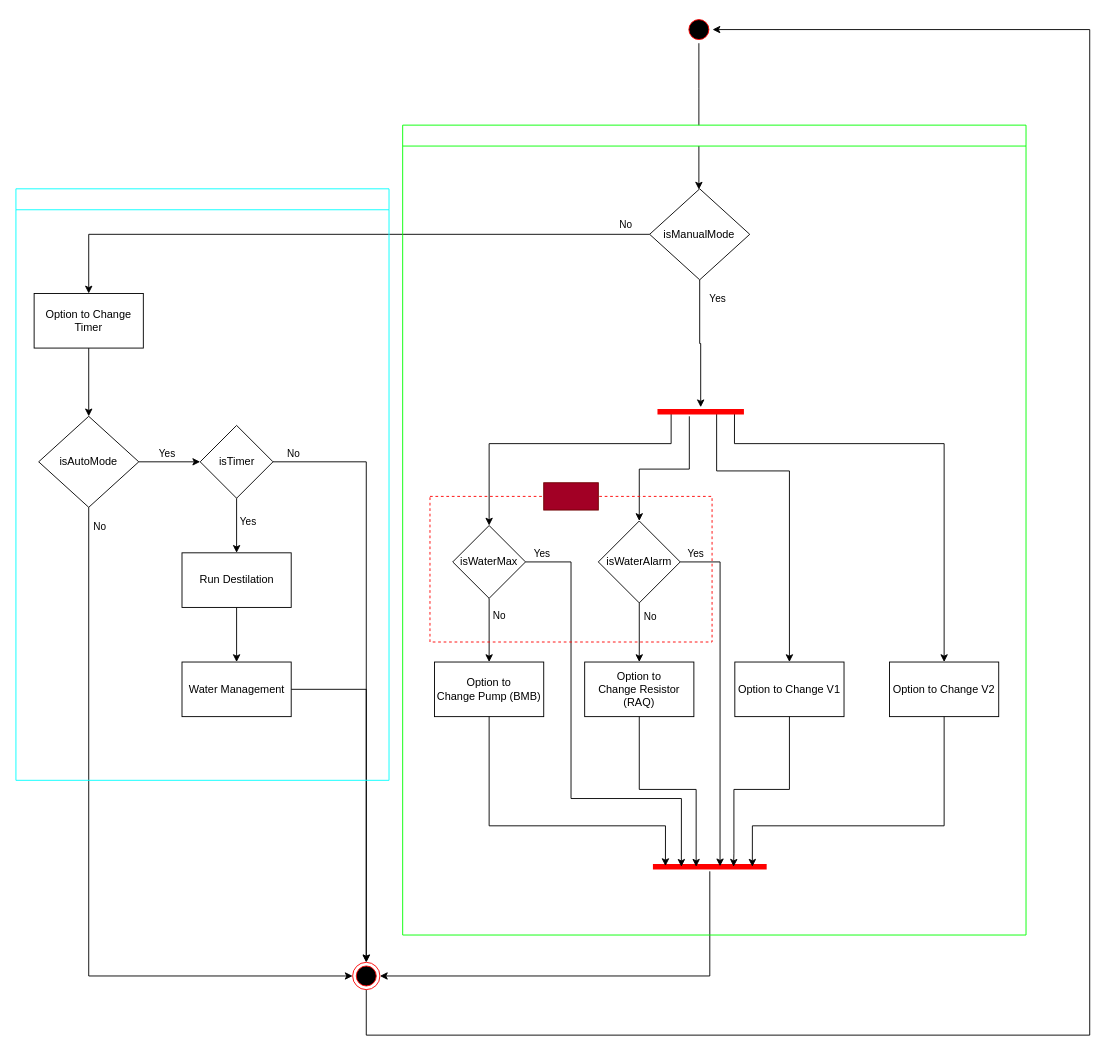
This 1113x1058 diagram has some shape labels left out. The shapes that lost their labels are listed below. From the top down, each one's box as (x1, y1, x2, y2) in pixels, then its label:
(15, 188, 389, 780): Auto Mode
(543, 482, 598, 510): Protection
(402, 124, 1026, 935): Manual Mode
